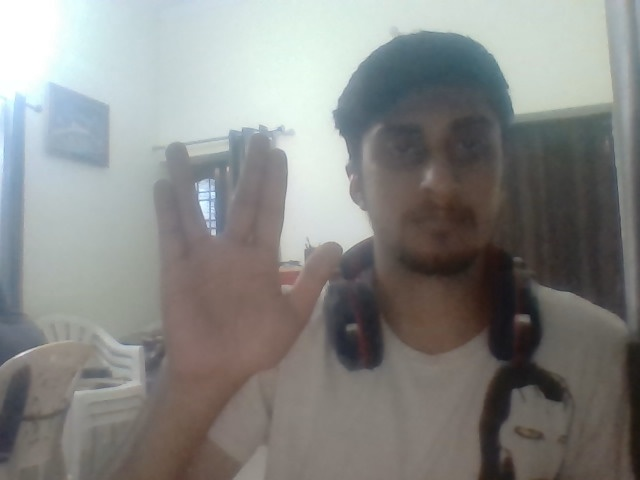LiveLong: (153, 134, 343, 380)
